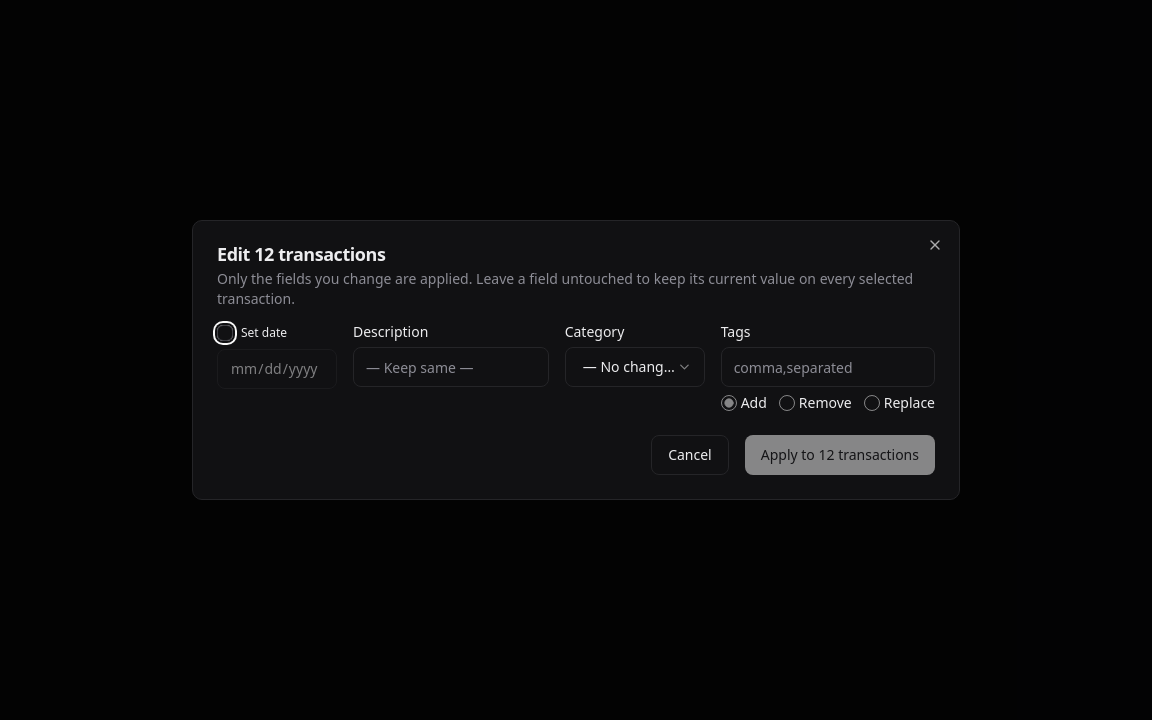
Scenario: BulkEditDialog › Tags radio enables when user types in the tag input
Type "tax" into the field labelled "Tags" at [828, 367], box [721,347,935,387]
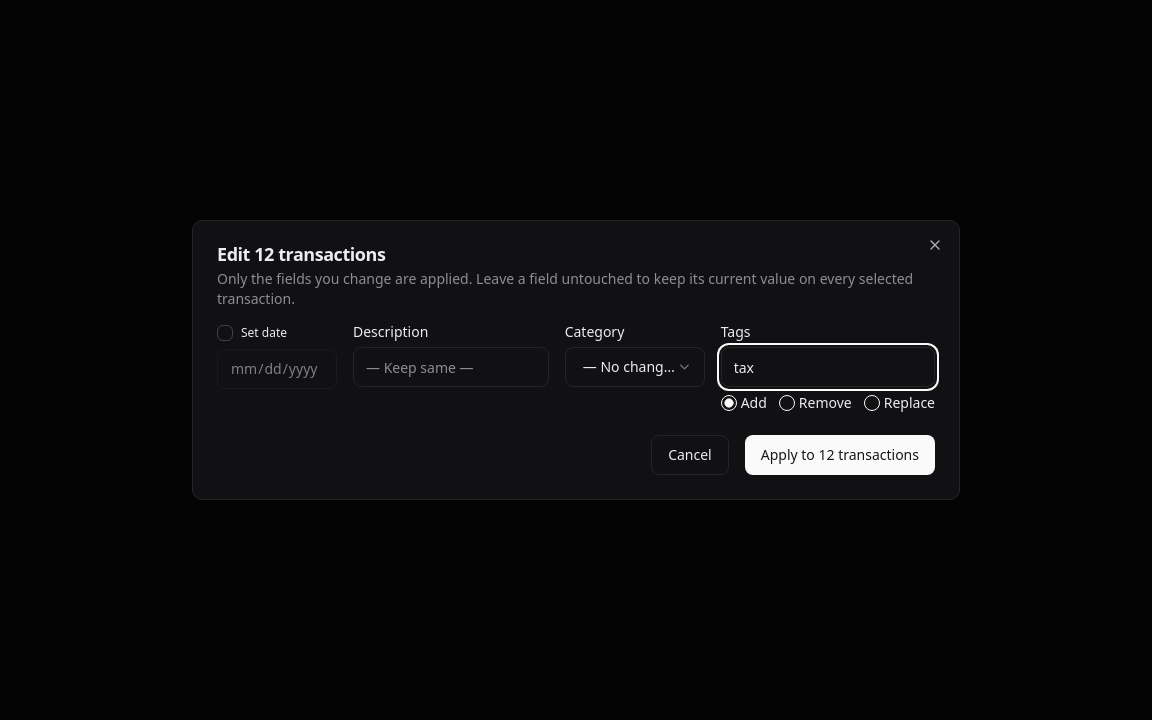
Check: the radio button named "add" next to "Add" is enabled, box [721,395,737,411]
